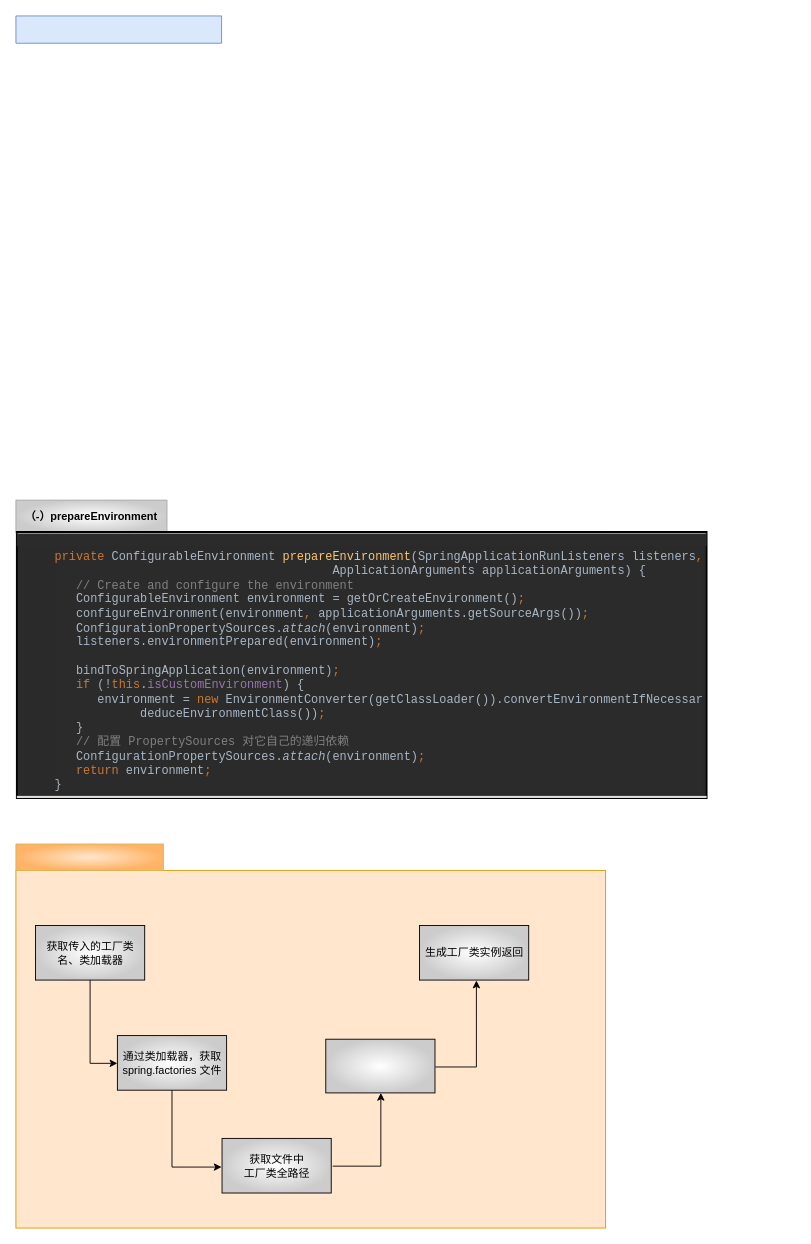
The diagram is 811 pixels wide and 1244 high, and some of its shapes have lost their labels. The shapes that lost their labels are listed below. From the top down, each one's centre as x and y in pixels, then its label:
At [118,29]: "模板".
At [89,856]: "SpringBoot 自动化配置".
At [380,1065]: "通过类路径反射得到工厂class 对象，构造方法".
